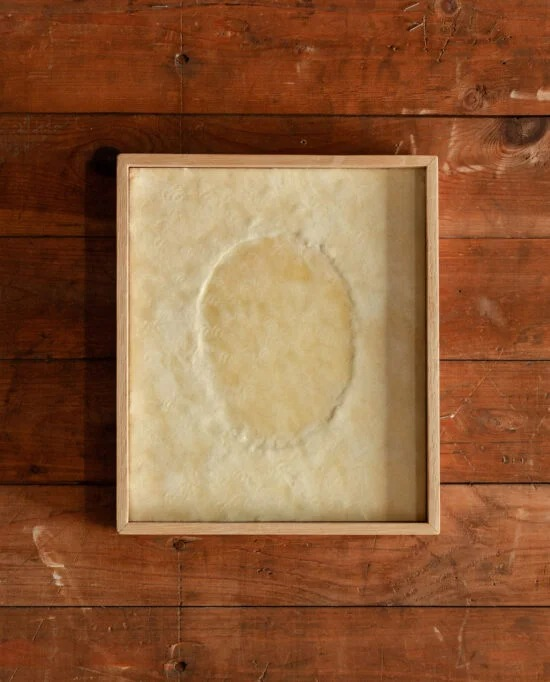painting: (115, 154, 441, 536)
